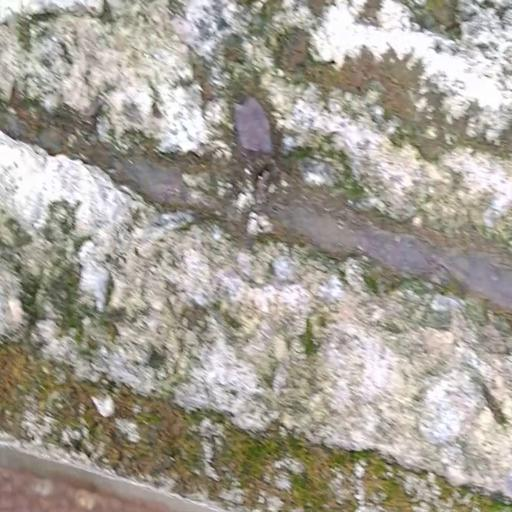spalling: (0, 60, 512, 337)
